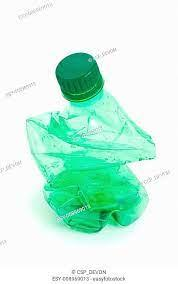plastic: (24, 59, 157, 225)
